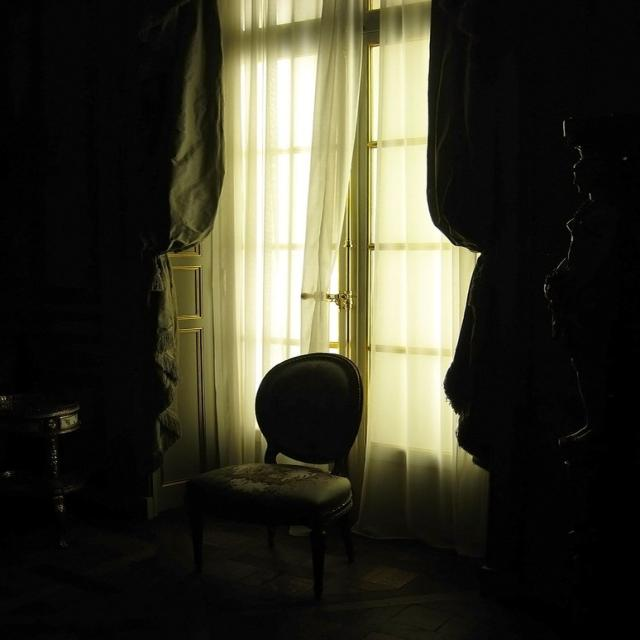Table: (0, 359, 113, 531)
chair: (188, 339, 414, 599)
